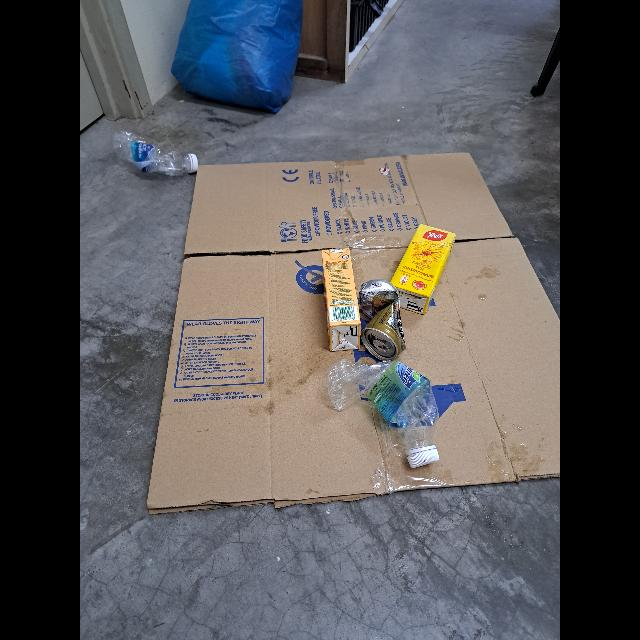aba de lata: (374, 340, 388, 354)
caixinha: (389, 223, 456, 314), (322, 248, 361, 352)
garrafa plástica: (327, 358, 439, 448), (111, 131, 190, 177)
lata: (359, 279, 406, 361)
papelão: (145, 152, 560, 512)
sacola plástica: (170, 0, 304, 114)
tampa plástica: (406, 448, 439, 468), (188, 154, 198, 172)
